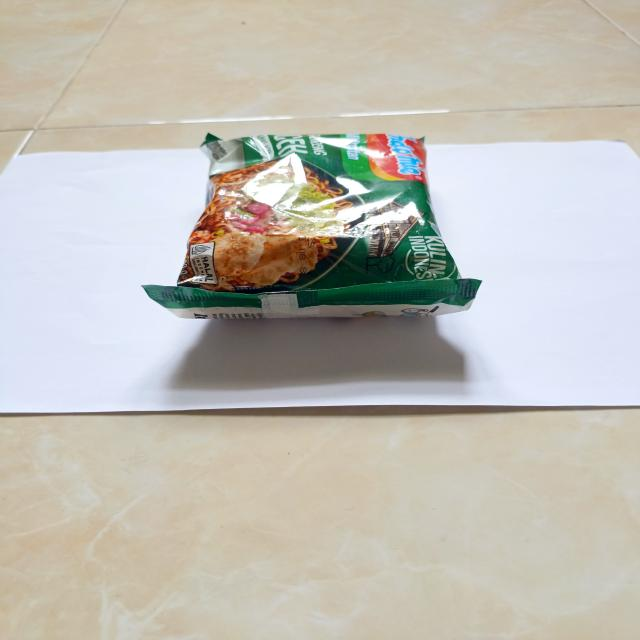gery-salut-coconut: (144, 130, 480, 327)
